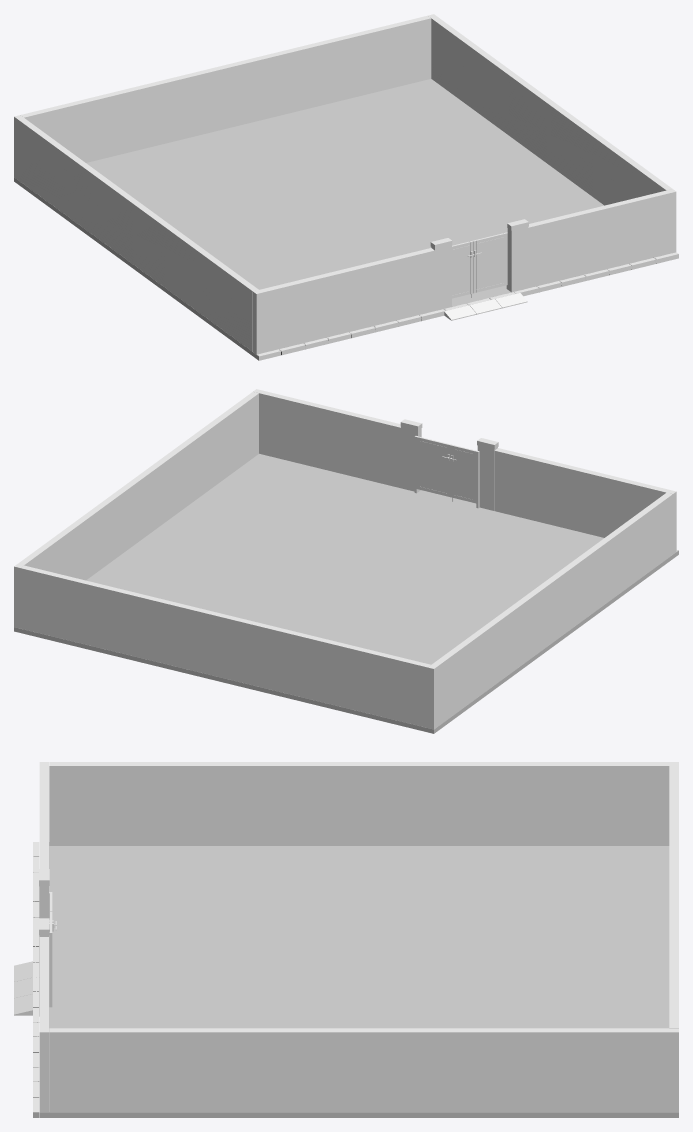
File: Property_K2.fbx
3 renders of one model, top to bottom at view 1: azimuth 30°, elevation 25°; view 2: azimuth 150°, elevation 25°; view 3: azimuth 270°, elevation 25°, orthographic. The views are drawn at different scales.
Parts seen in each view (by area): view 1: Ground.006, Wall.10034, Wall.10027, Wall.10038, Wall.10039, Door.056, Door.055, Step.008; view 2: Ground.006, Wall.10034, Wall.10027, Wall.10038, Wall.10039, Door.056, Door.055; view 3: Ground.006, Wall.10039, Wall.10038, Wall.10027, Wall.10034, Step.008.
Boxes of the visible parts, x1,y1,x2,y2 form: Ground.006: [14, 79, 678, 360]; Wall.10034: [20, 15, 431, 162]; Wall.10027: [253, 189, 676, 354]; Wall.10038: [14, 115, 258, 351]; Wall.10039: [428, 14, 672, 205]; Door.056: [473, 232, 507, 293]; Door.055: [452, 241, 474, 298]; Step.008: [444, 293, 527, 320]; Ground.006: [14, 453, 678, 733]; Wall.10034: [20, 565, 430, 727]; Wall.10027: [253, 389, 676, 554]; Wall.10038: [427, 492, 672, 729]; Wall.10039: [14, 392, 258, 628]; Door.056: [416, 436, 451, 497]; Door.055: [449, 445, 476, 503]; Ground.006: [33, 842, 678, 1117]; Wall.10039: [49, 1028, 678, 1111]; Wall.10038: [49, 762, 678, 845]; Wall.10027: [39, 762, 52, 1111]; Wall.10034: [669, 766, 678, 1028]; Step.008: [14, 961, 32, 1015].
Bounding box in the file's own units: 1000 × 161 × 1040.
